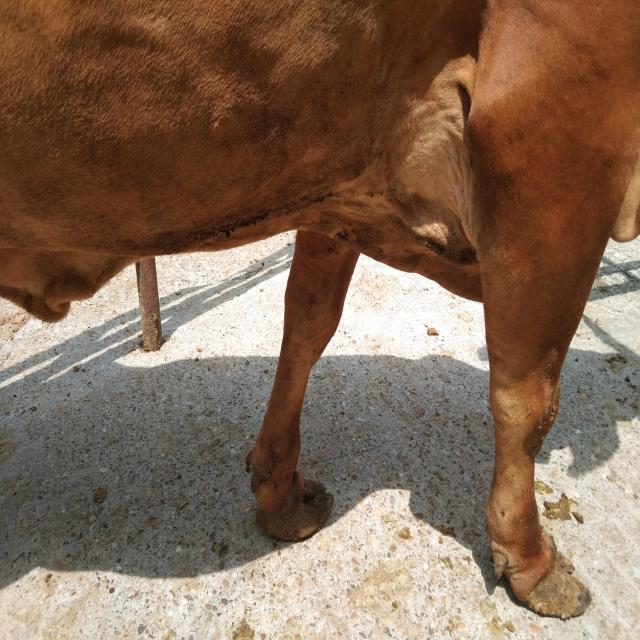Hoof: (487, 528, 591, 620), (254, 469, 334, 542)
